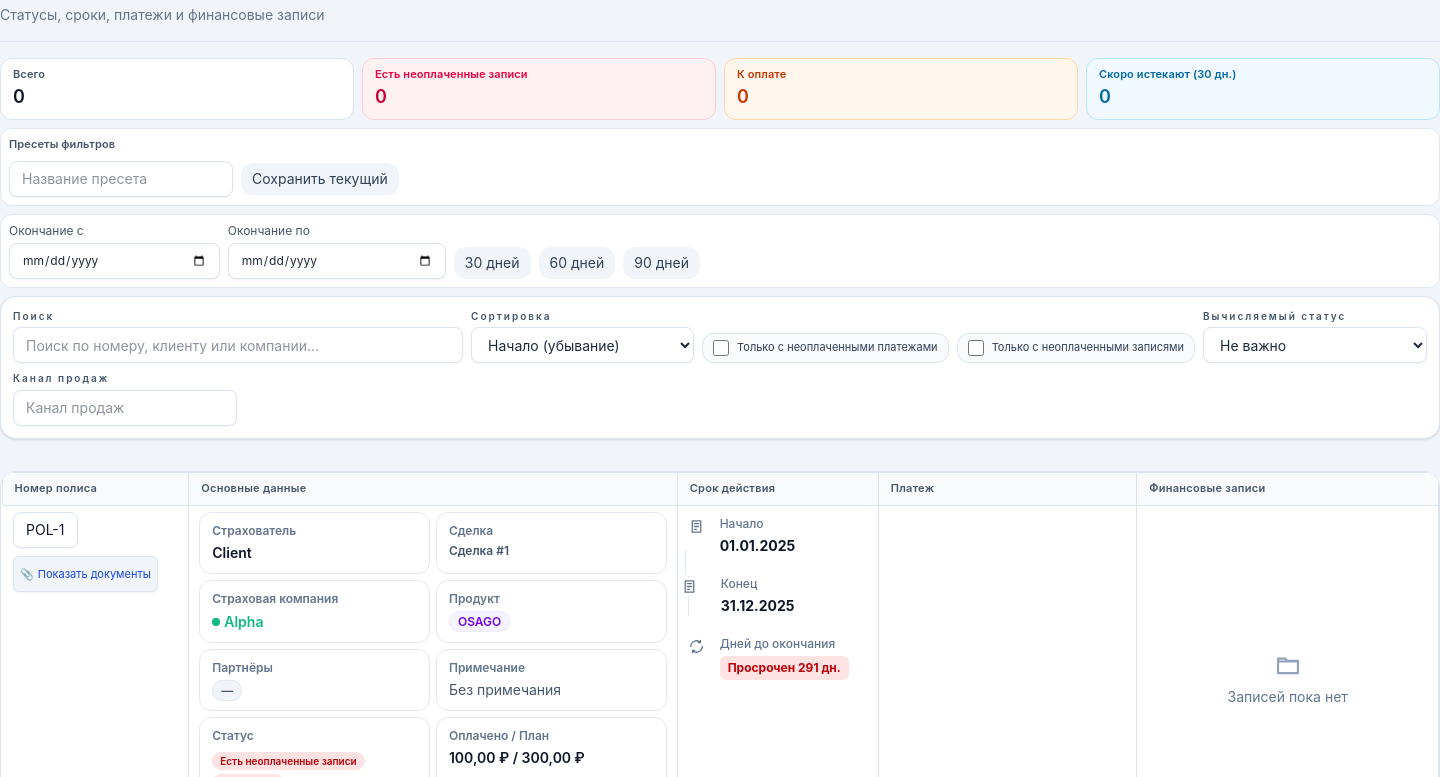
Test: PoliciesView › shows an empty or failed document state only for the affected policy
Step 1. Click the button "📎 Показать документы" → (85, 574), box [13,556,158,592]
(page scrolled)
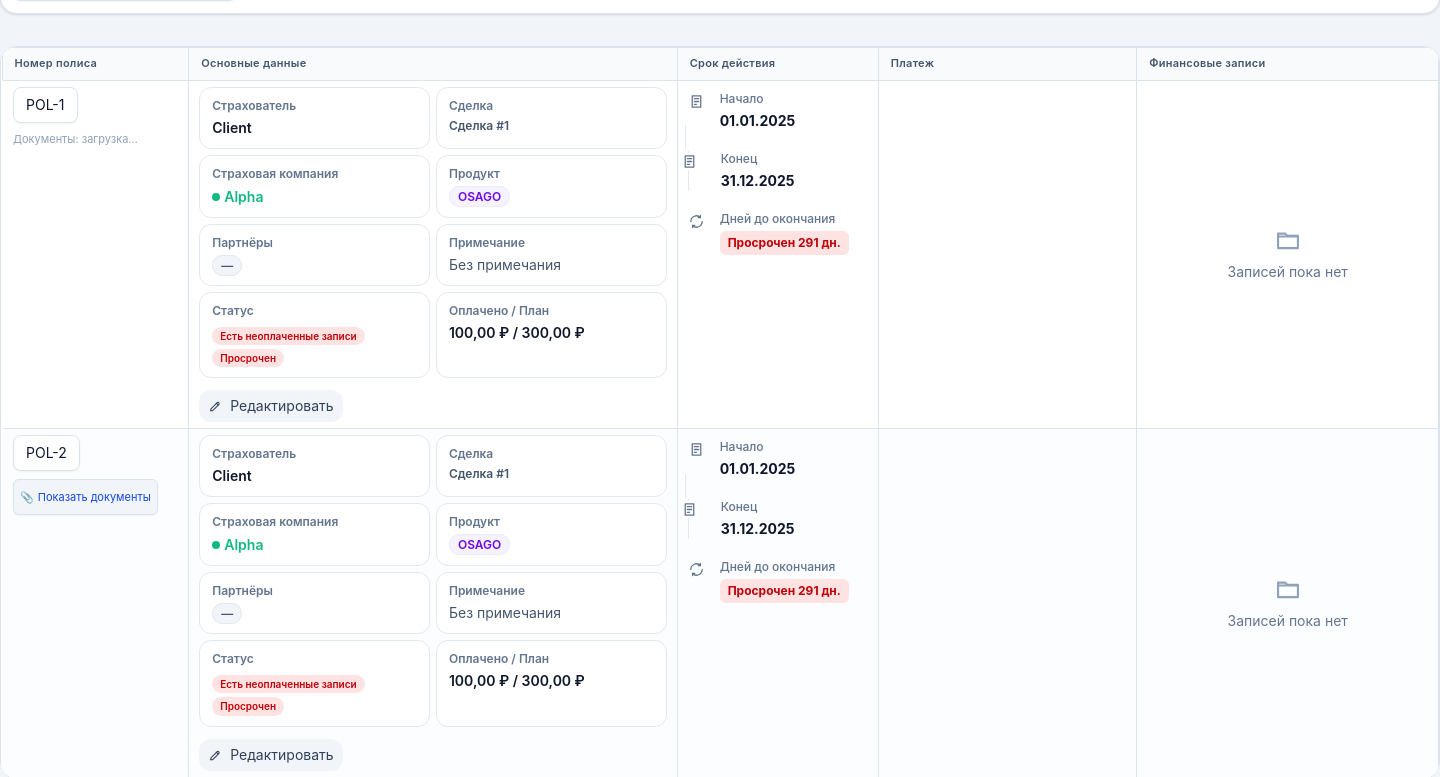
Step 2. Click the button "📎 Показать документы" → (85, 497), box [13,479,158,515]
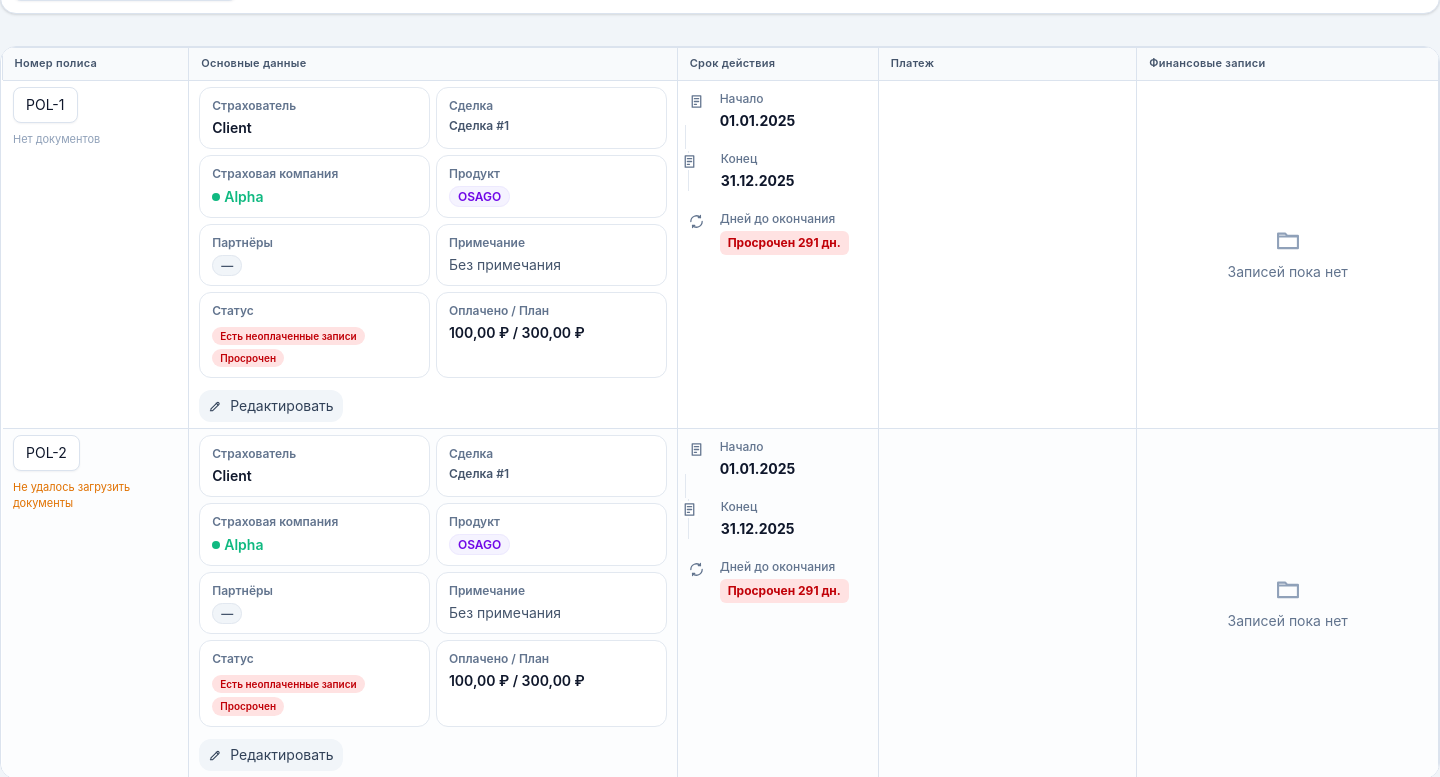
Expected: the text "POL-1" shows "Нет документов", [13,132,100,146]
Expected: the text "POL-2" shows "Не удалось загрузить документы", [13,480,130,510]
